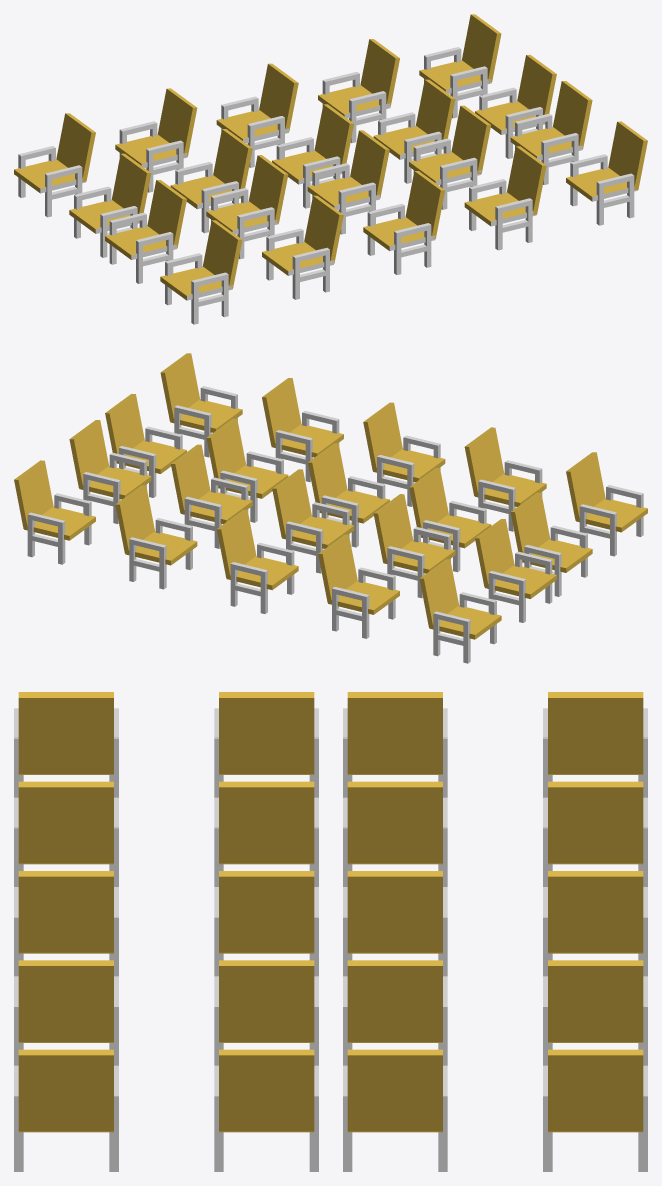
Rendered from chairs.dae.
3 renders of one model, top to bottom at view 1: azimuth 30°, elevation 25°; view 2: azimuth 150°, elevation 25°; view 3: azimuth 270°, elevation 25°, orthographic. The views are drawn at different scales.
Parts seen in each view (by area): view 1: Chair Array; view 2: Chair Array; view 3: Chair Array.
Boxes of the visible parts, bbox=[...] form: Chair Array: bbox=[14, 14, 647, 324]; Chair Array: bbox=[14, 353, 647, 663]; Chair Array: bbox=[14, 692, 647, 1171].
Bounding box in the file's own units: 20.18 × 13.3 × 3.05.
